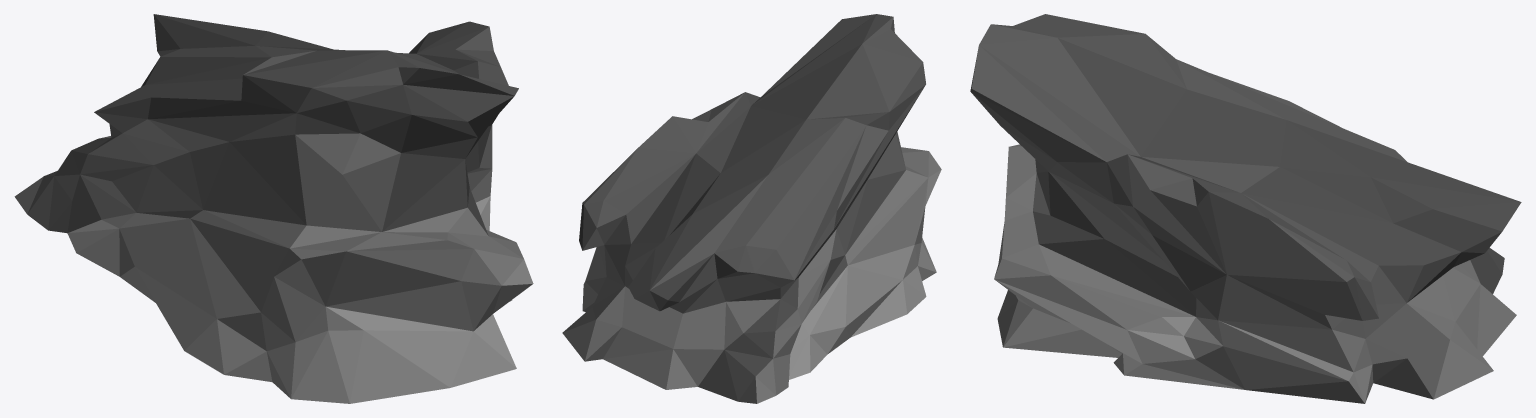
Rendered from stoun_12.fbx.
3 renders of one model, left to right at view 1: azimuth 30°, elevation 25°; view 2: azimuth 150°, elevation 25°; view 3: azimuth 270°, elevation 25°, orthographic. The views are drawn at different scales.
Parts seen in each view (by area): view 1: Object.017; view 2: Object.017; view 3: Object.017.
Part boxes in pixels (box(x1,y1,x2,y2)): Object.017: box(14, 14, 533, 403); Object.017: box(562, 14, 941, 403); Object.017: box(970, 14, 1521, 403).
Bounding box in the file's own units: 437 × 367 × 652.
